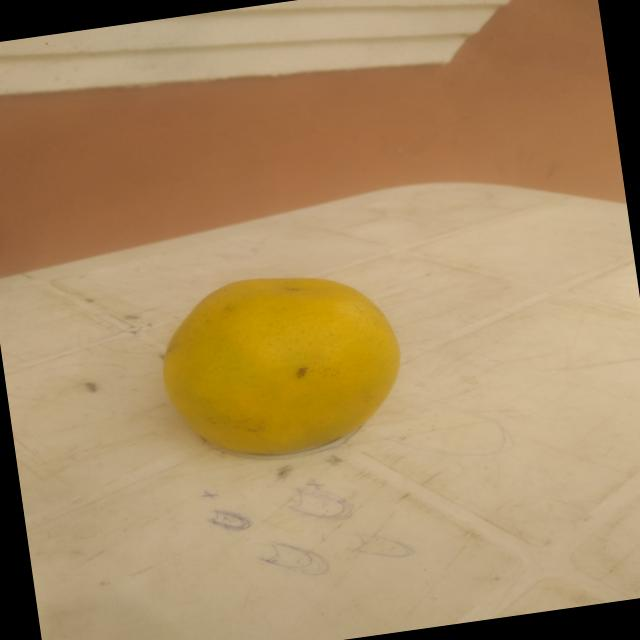Ripe orange: (152, 259, 418, 474)
